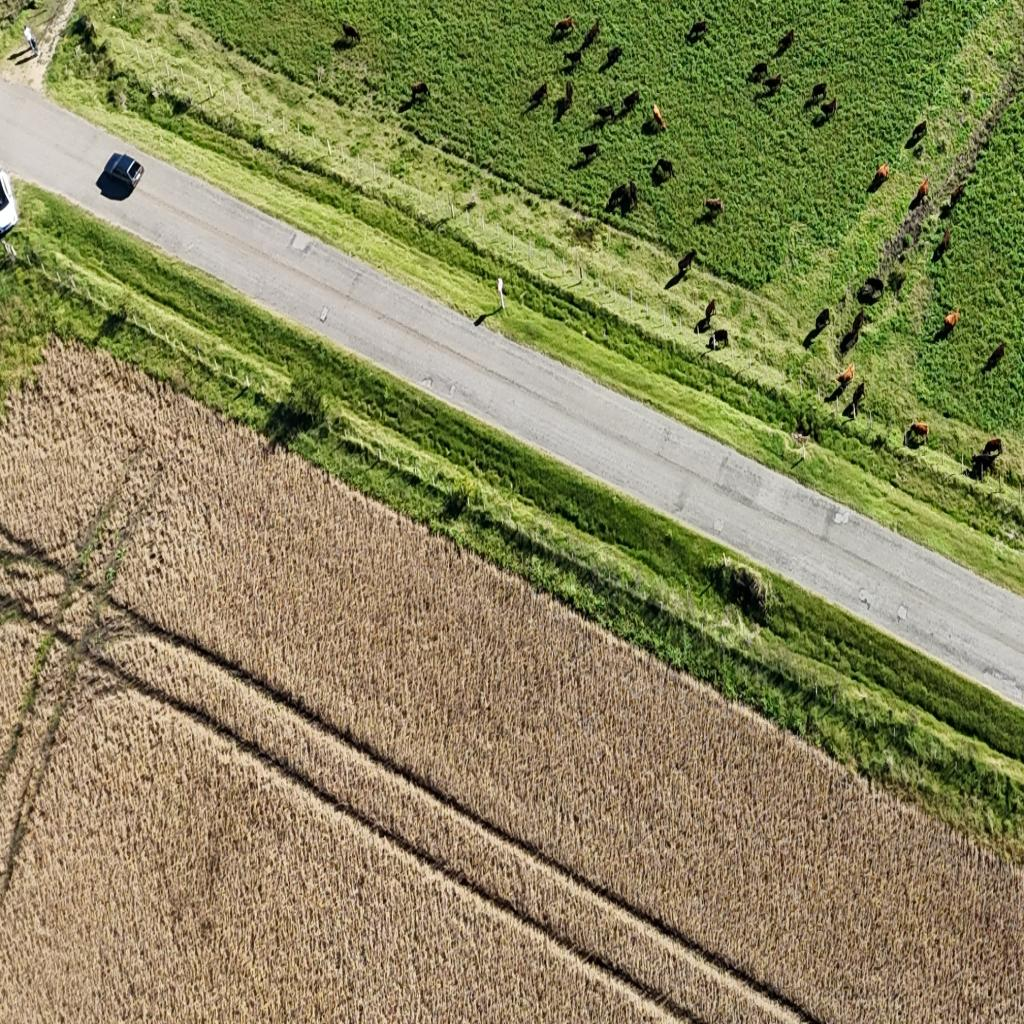cow: (604, 181, 634, 214), (698, 193, 724, 223), (858, 278, 884, 306), (524, 81, 548, 111), (555, 80, 573, 120), (943, 181, 966, 211), (699, 298, 718, 334), (905, 421, 929, 448), (774, 28, 795, 58), (648, 102, 667, 134), (934, 229, 953, 261), (844, 386, 863, 418), (550, 16, 574, 40), (678, 249, 698, 277), (835, 360, 855, 388), (970, 452, 990, 480), (906, 119, 926, 146), (576, 142, 600, 164), (872, 161, 890, 190), (890, 264, 908, 293), (909, 183, 929, 209), (594, 102, 616, 125), (619, 90, 638, 116), (652, 160, 671, 185), (603, 45, 622, 70), (747, 62, 768, 84), (409, 81, 429, 104), (689, 20, 709, 42), (763, 73, 782, 96), (563, 49, 581, 73), (820, 96, 838, 120), (586, 18, 601, 46), (851, 308, 865, 337), (983, 438, 1003, 458), (809, 82, 827, 104), (902, 0, 922, 19), (710, 329, 728, 350), (816, 308, 831, 331), (342, 21, 360, 40), (854, 380, 867, 405), (992, 340, 1006, 363), (945, 308, 961, 328)
